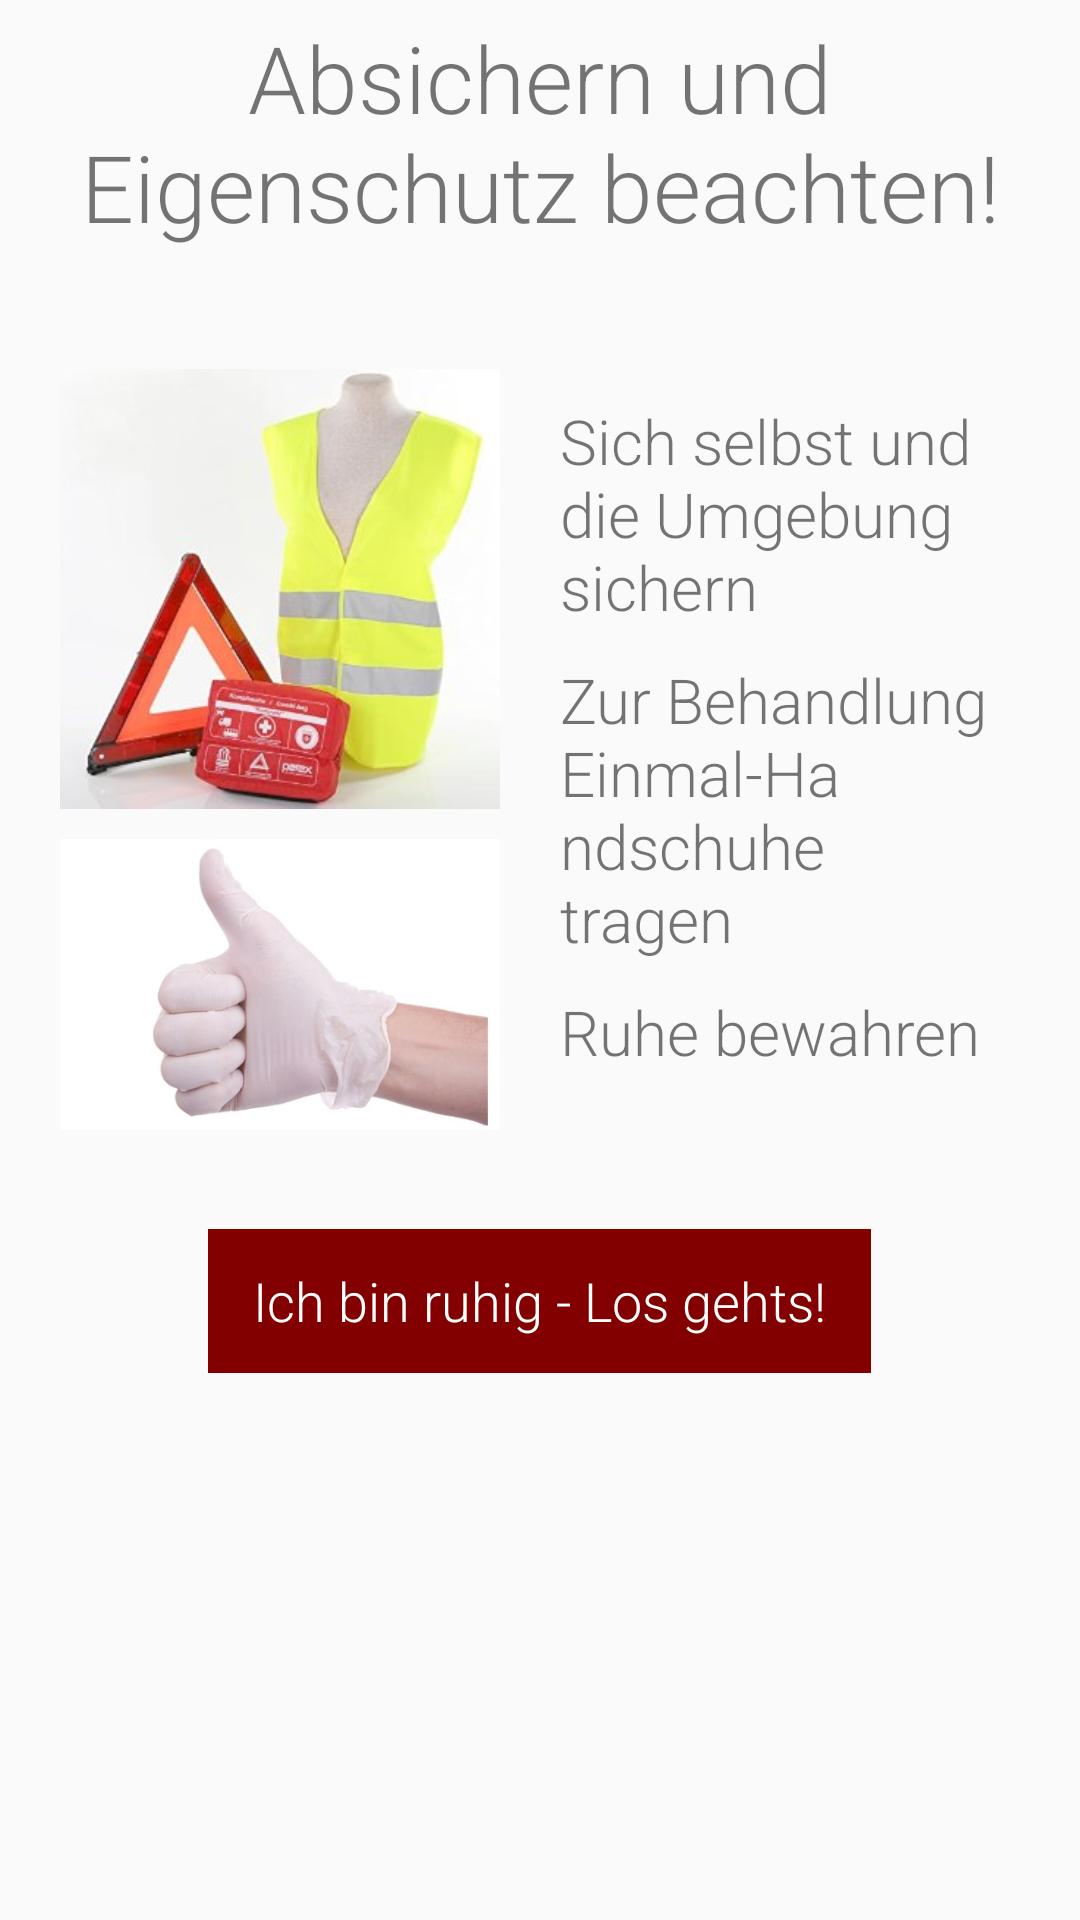

Icon bounding boxes for this 1080×1920 phone screenshot, format (x1, y1, x2, y2):
pic handschuhe: (153, 849, 488, 1126)
